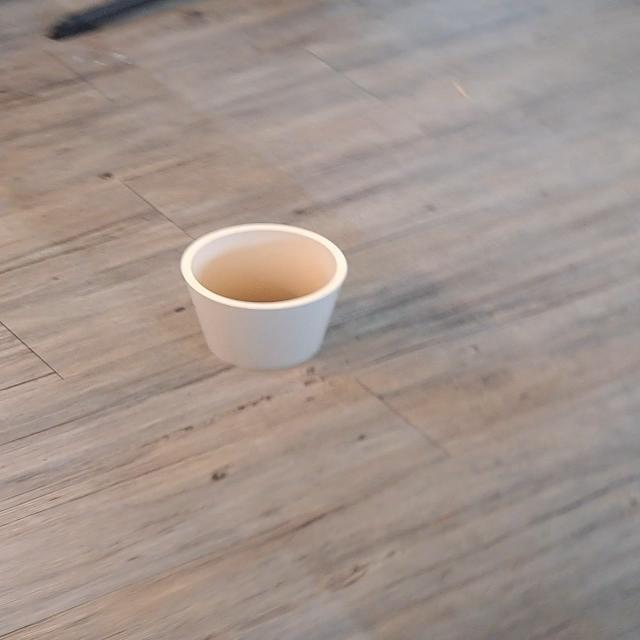CORAL: (166, 219, 360, 377)
